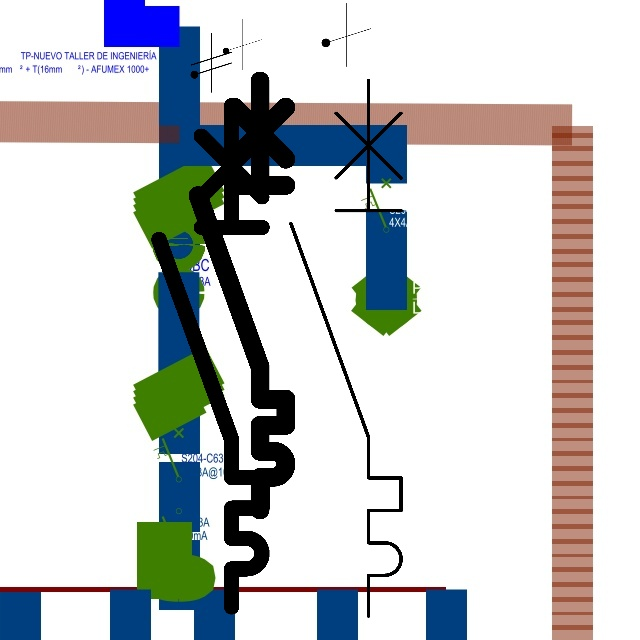interruptor_termomagnetico: (277, 66, 415, 629), (146, 92, 275, 619), (187, 70, 297, 521)
